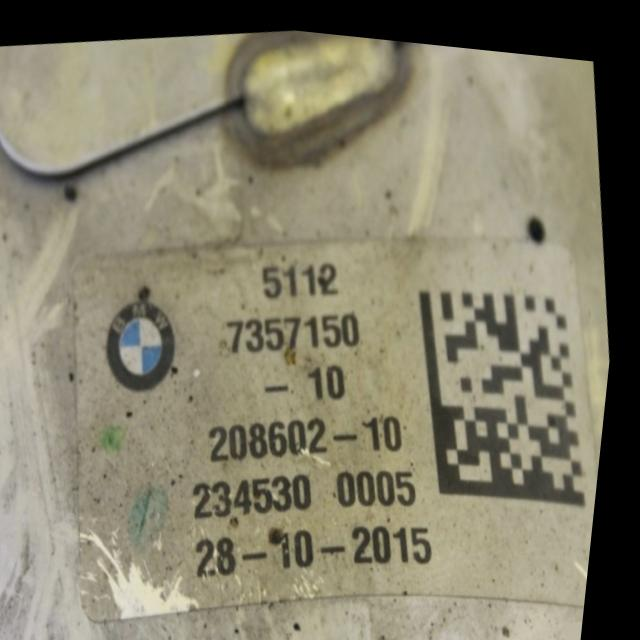datamatrix: (408, 259, 614, 517)
